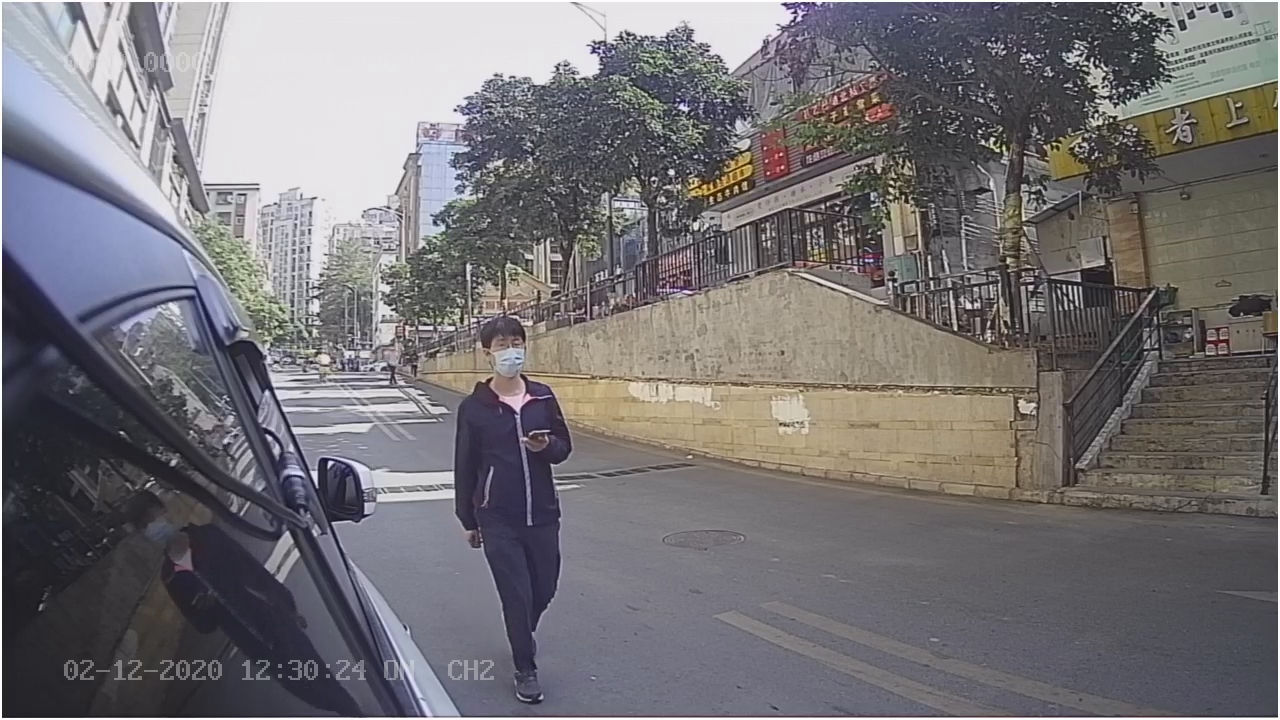person: (452, 314, 584, 702)
